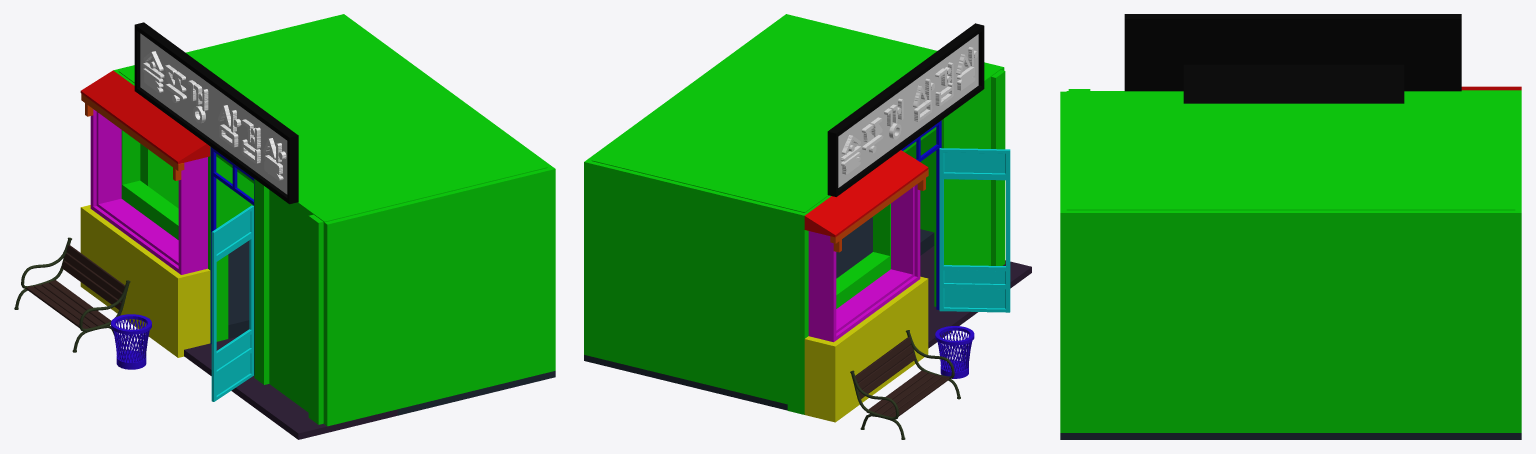
File: Building_6_2.fbx
3 views of the same model, side by side, from view 1: azimuth 30°, elevation 25°; view 2: azimuth 150°, elevation 25°; view 3: azimuth 270°, elevation 25° (orthographic). The views are drawn at different scales.
Visible parts, largest first — view 1: polySurface990, polySurface916, typeMesh30; view 2: polySurface990, polySurface916, typeMesh30; view 3: polySurface990, polySurface916.
Part boxes in pixels (bbox=[...]): polySurface990: bbox=[14, 14, 555, 439]; polySurface916: bbox=[134, 22, 298, 204]; typeMesh30: bbox=[142, 51, 286, 180]; polySurface990: bbox=[584, 14, 1031, 439]; polySurface916: bbox=[827, 23, 984, 196]; typeMesh30: bbox=[840, 47, 977, 174]; polySurface990: bbox=[1060, 64, 1521, 439]; polySurface916: bbox=[1124, 14, 1461, 91].
Size of the model in its own units: 172 by 138 by 190.
